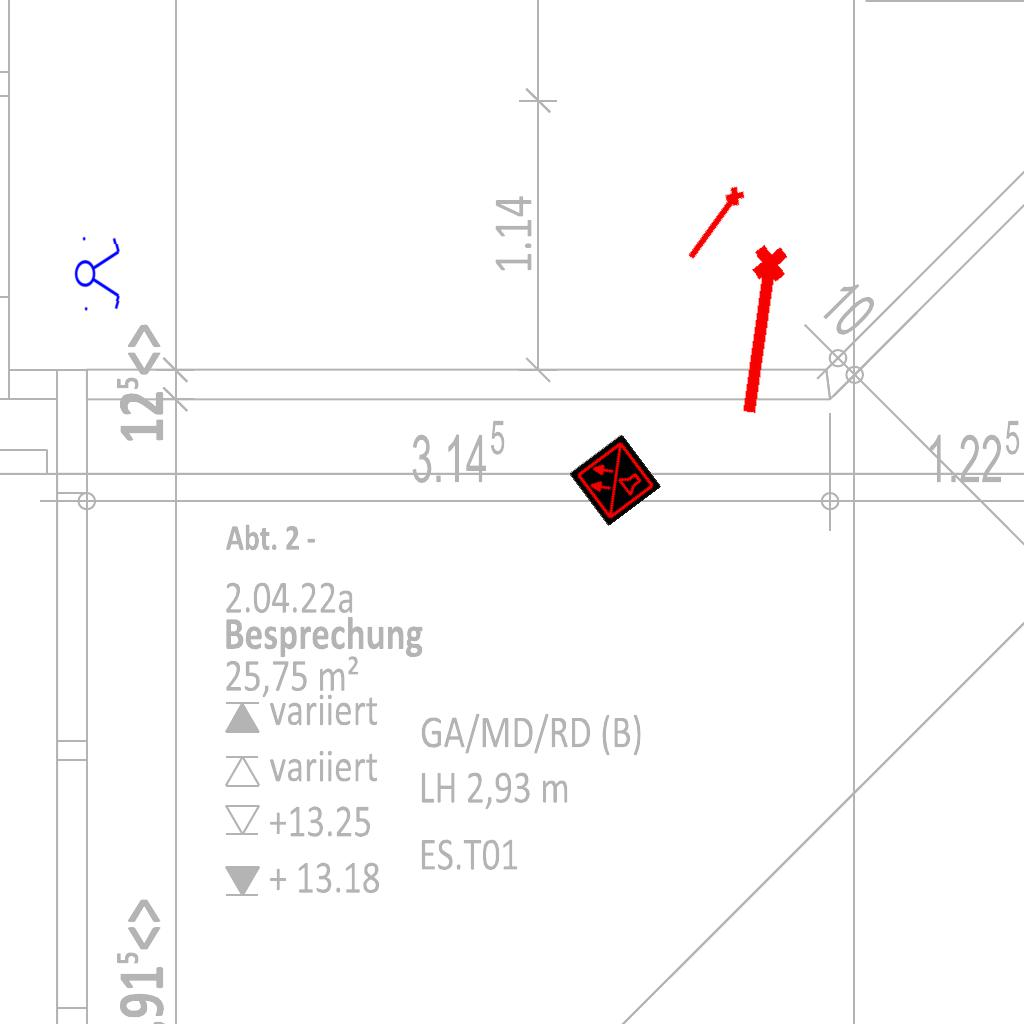ASR_Ansaugoeffnung: (727, 240, 799, 422), (680, 182, 752, 267)
OKW_Multisensormelder_(Kombination_optischer_Rauch-Kahlenmonoxid_Waerme-Melder): (568, 433, 662, 527)
Serienschalter: (73, 230, 123, 316)
